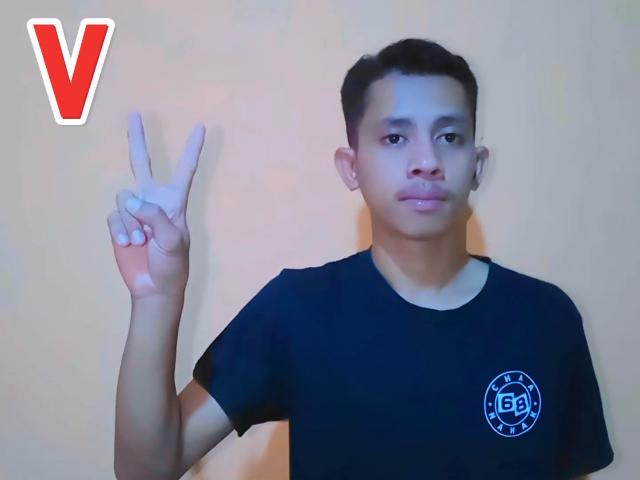V: (105, 102, 222, 306)
